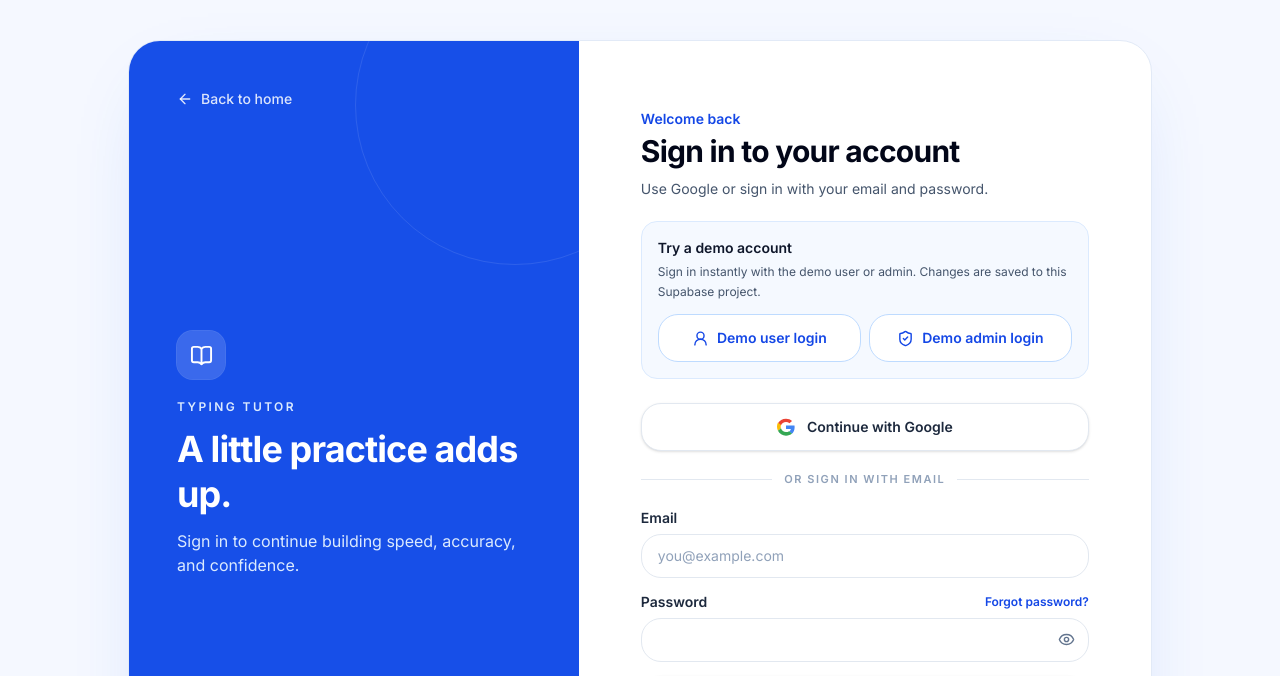
Real Supabase demo login › shows invalid credentials without creating a local demo session
What coordinates should you click on to do the following:
click the button "Demo user login"
I would click on:
 (759, 338)
Its box is [658,314,861,362].
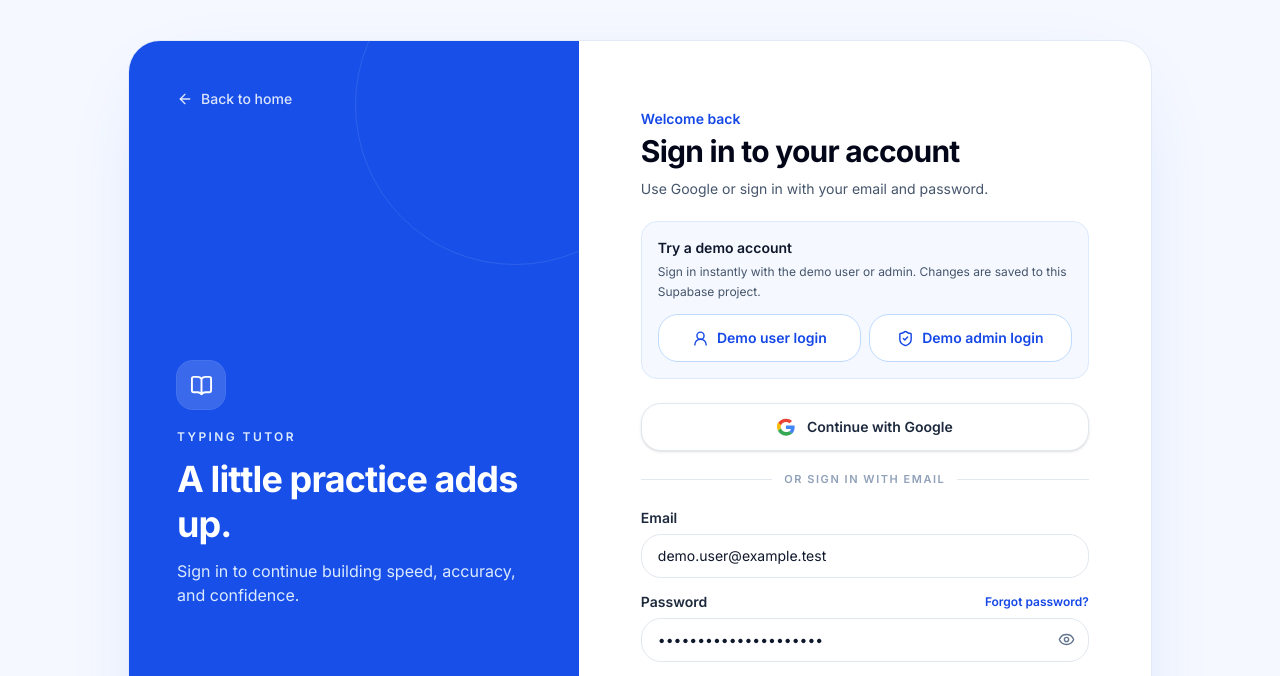
Expected: the field with id "login-email" holds "demo.user@example.test", [641,534,1089,578]
Expected: the password field with id "login-password" holds "fixture-user-password", [641,618,1089,662]
